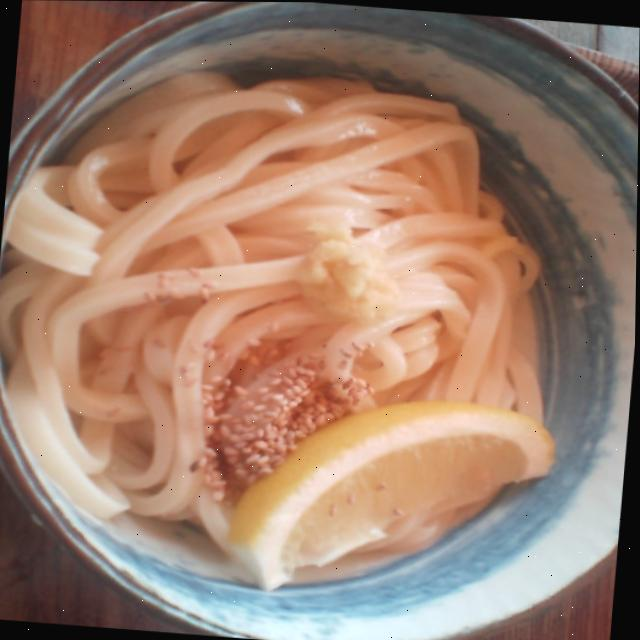面条主食: (0, 17, 614, 640)
